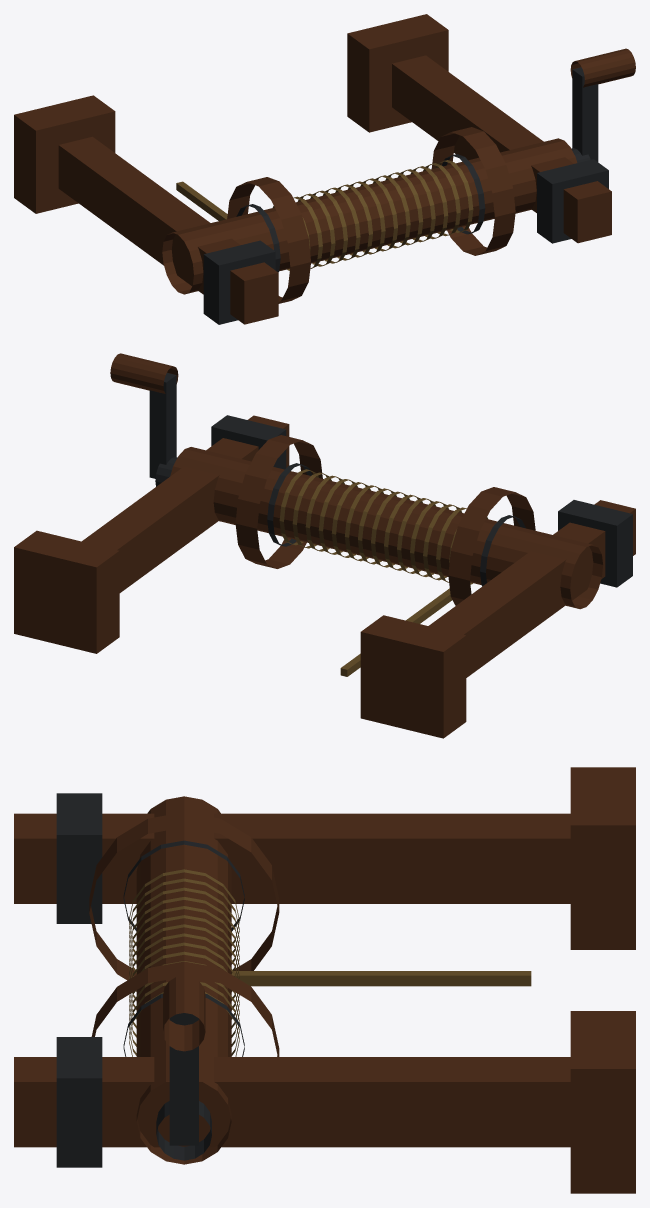
Rendered from winch_LOD0.obj.
3 views of the same model, one above another, from view 1: azimuth 30°, elevation 25°; view 2: azimuth 150°, elevation 25°; view 3: azimuth 270°, elevation 25° (orthographic). The views are drawn at different scales.
Size of the model in its own units: 2.45 by 0.815 by 1.9.
